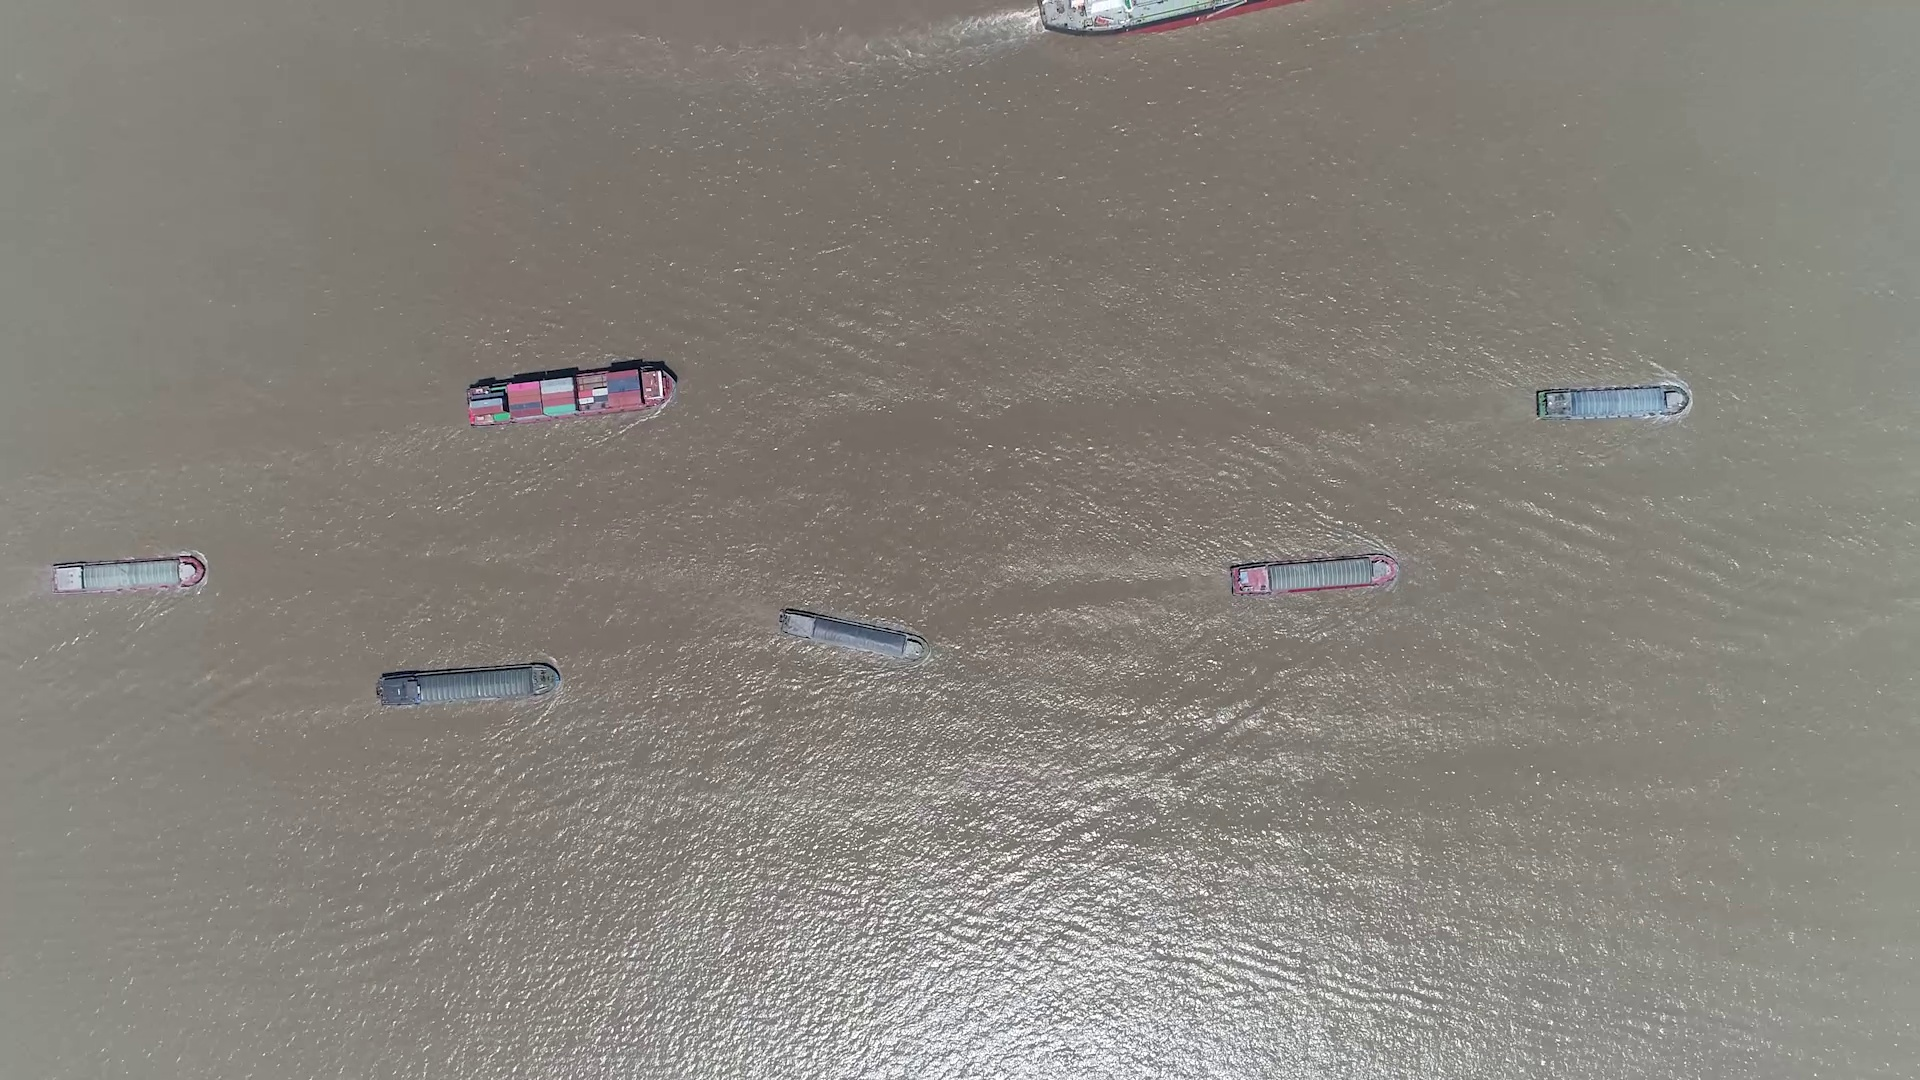ship: (468, 364, 678, 427), (1039, 1, 1300, 36), (378, 661, 562, 705), (778, 608, 924, 663), (1229, 553, 1400, 596), (47, 556, 204, 593), (1535, 386, 1687, 419)
